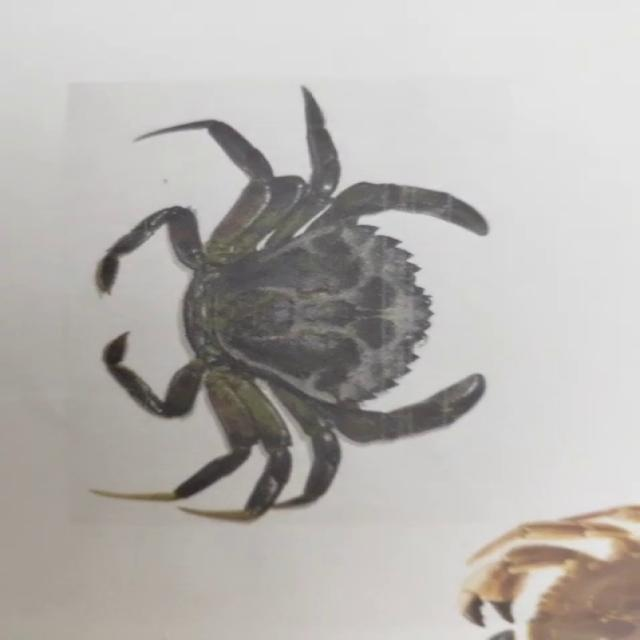egc: (94, 87, 487, 520)
